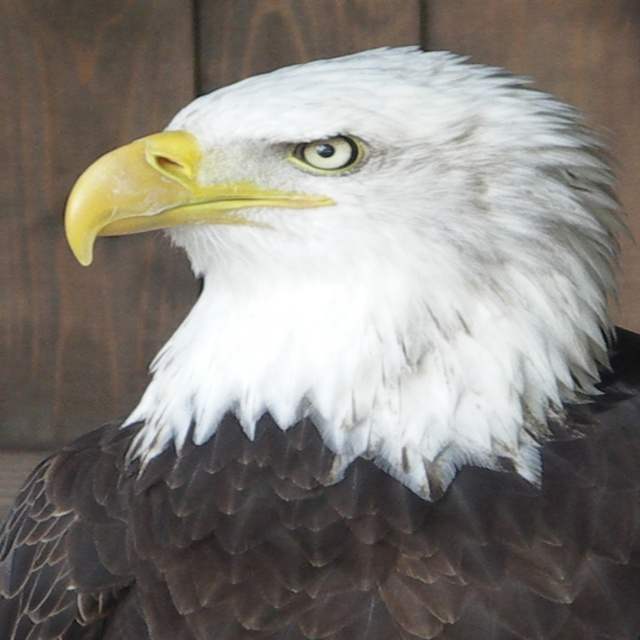Eagle: (0, 44, 639, 640)
